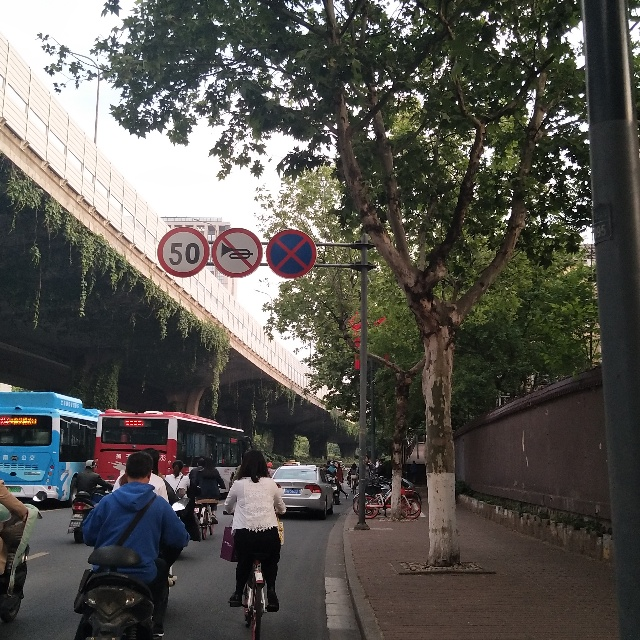nohonk: (209, 225, 262, 282)
stop: (269, 228, 317, 277)
